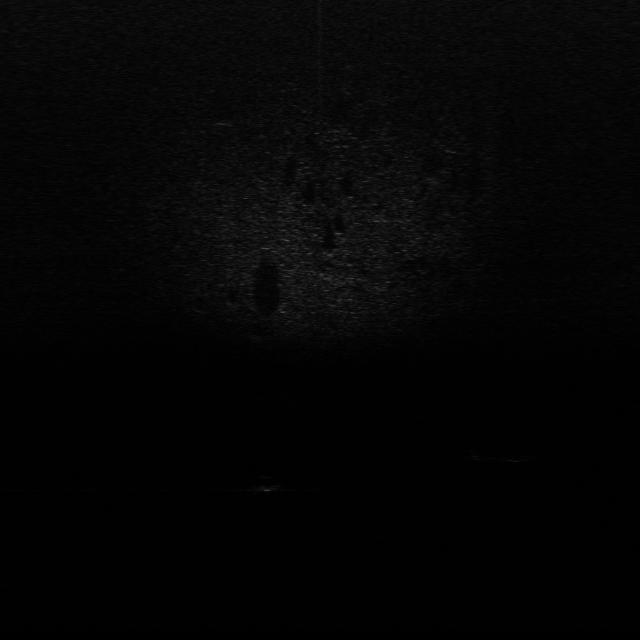ball: (252, 473, 286, 493)
human body: (452, 448, 539, 466)
